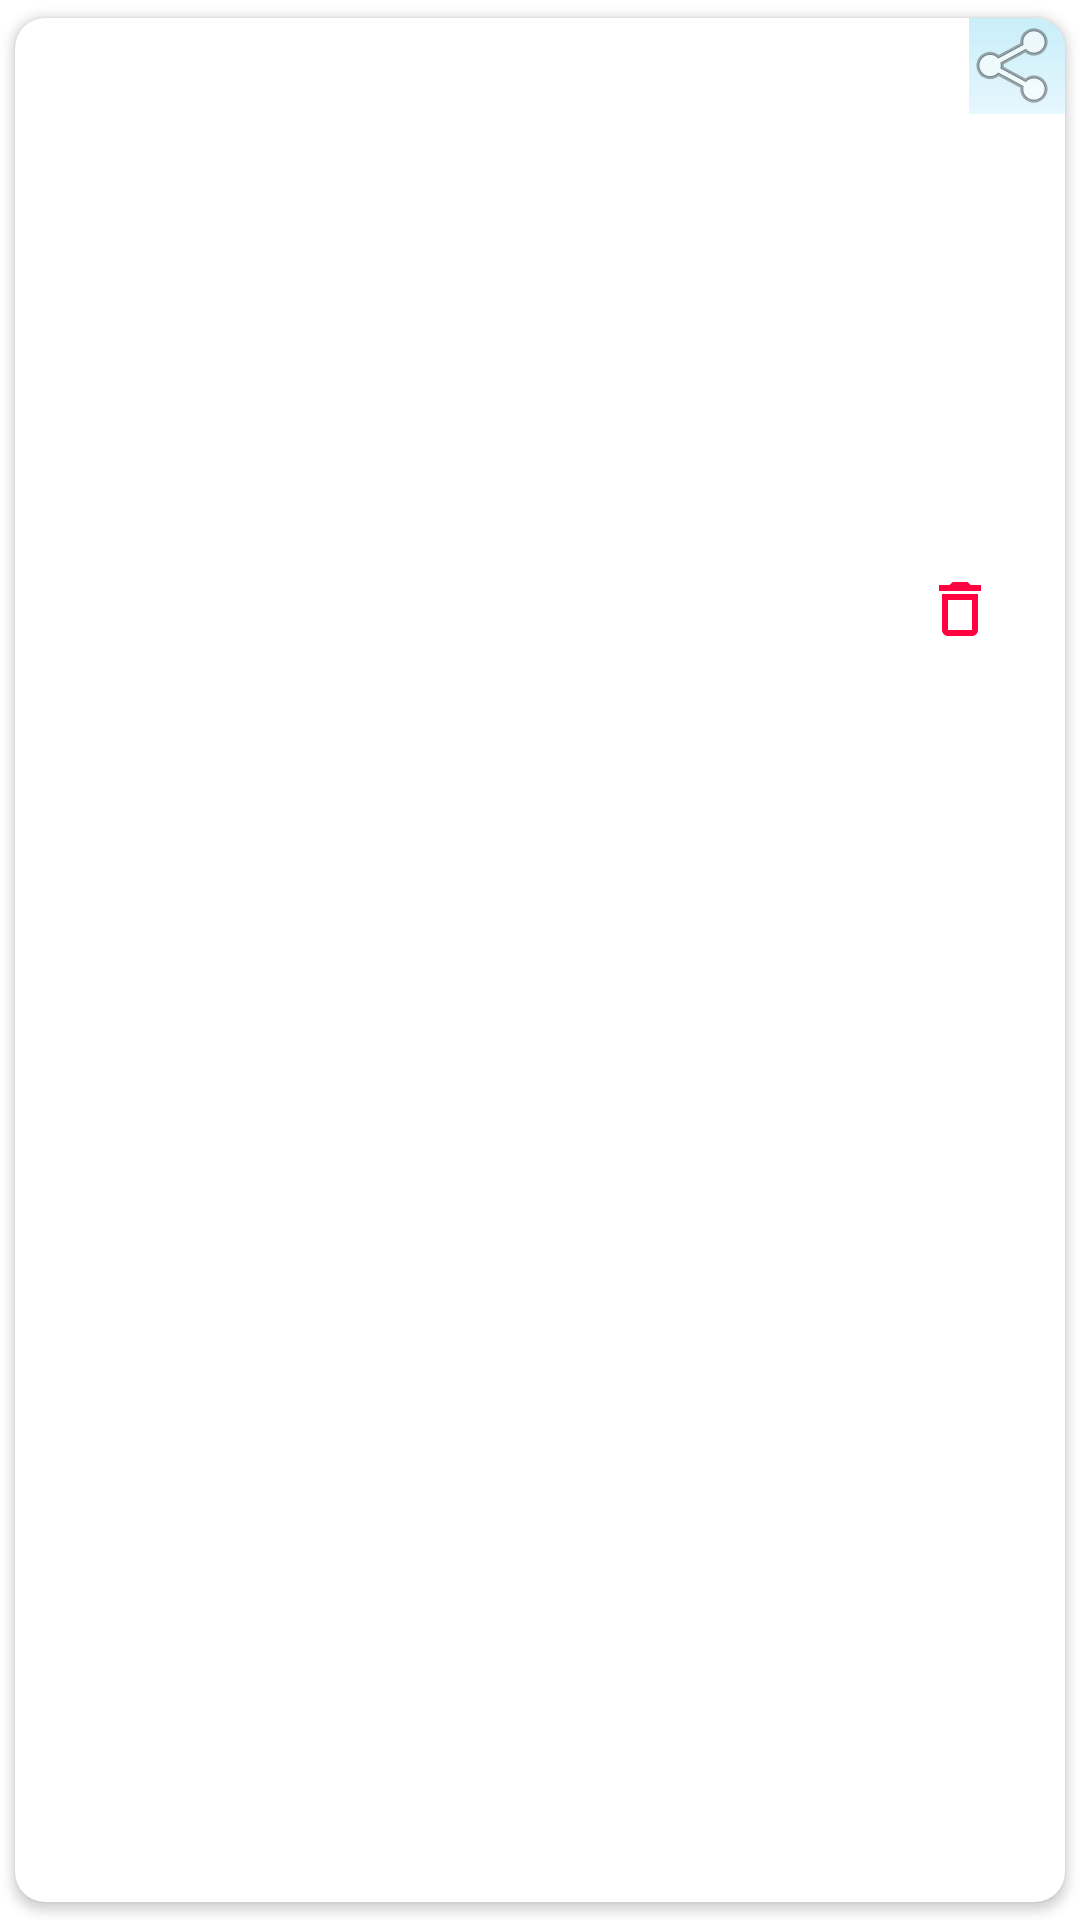

Named icons in this screenshot (1080 × 1920) and their centers, (x,y):
delete: (960,609)
share: (1017,65)
